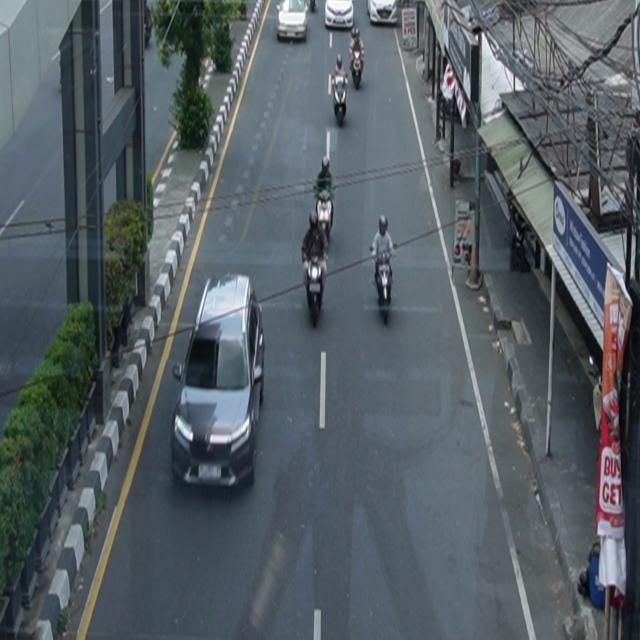car: (171, 273, 266, 491), (276, 1, 308, 42), (326, 1, 355, 31), (367, 1, 398, 26)
